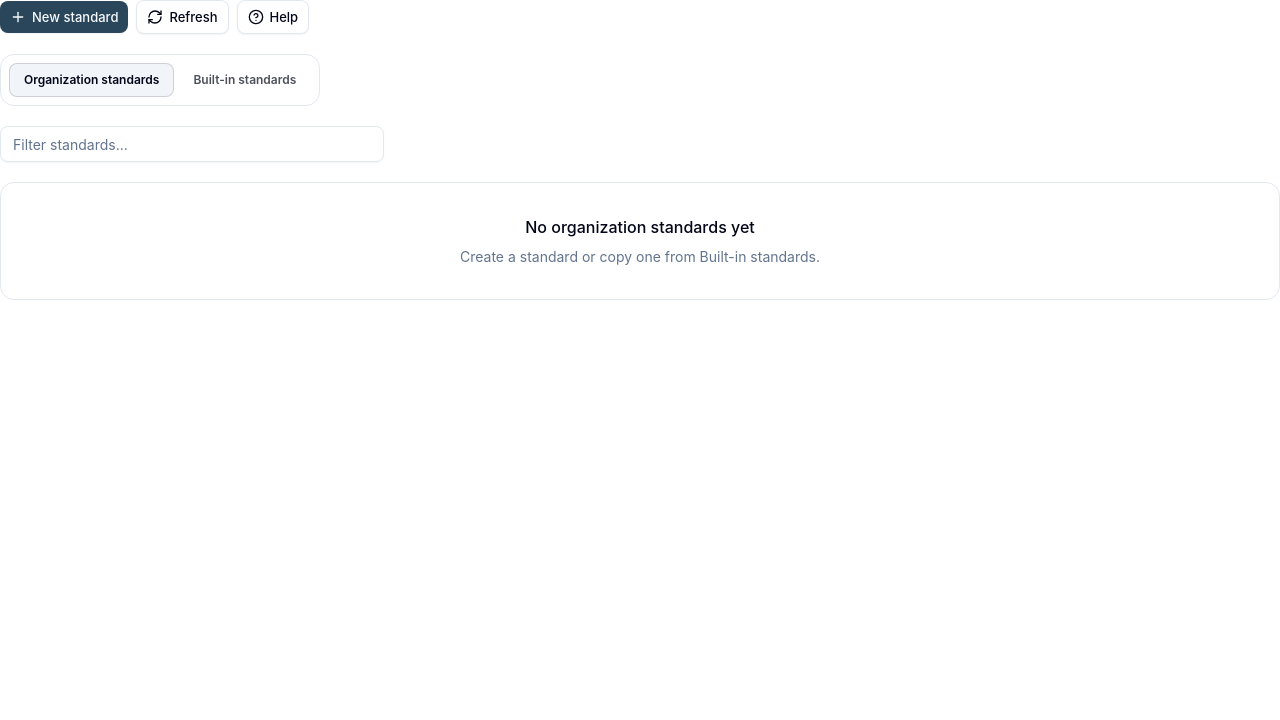
Test case: preserves the editor after a save conflict and presents a useful error
Click the button "New standard" at (64, 17), box [0,1,128,33]
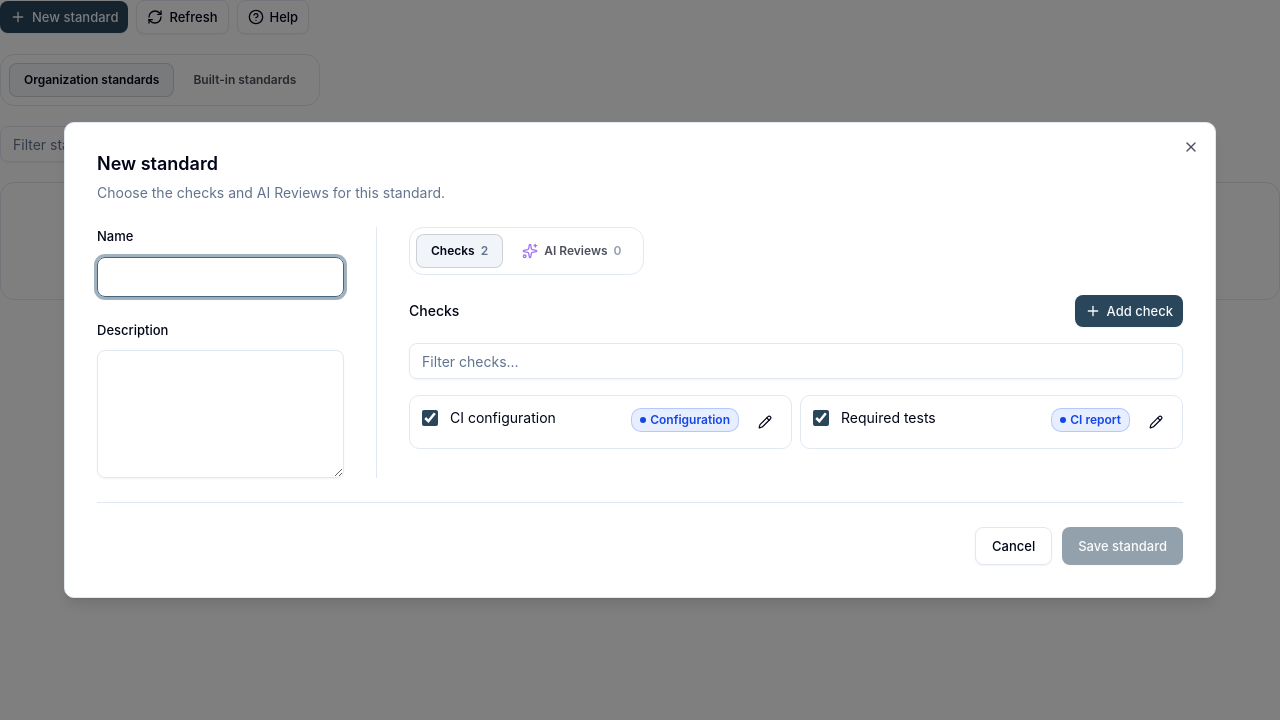
Type "Team standard" into the field labelled "Name" at (220, 276), box [97,256,344,296]
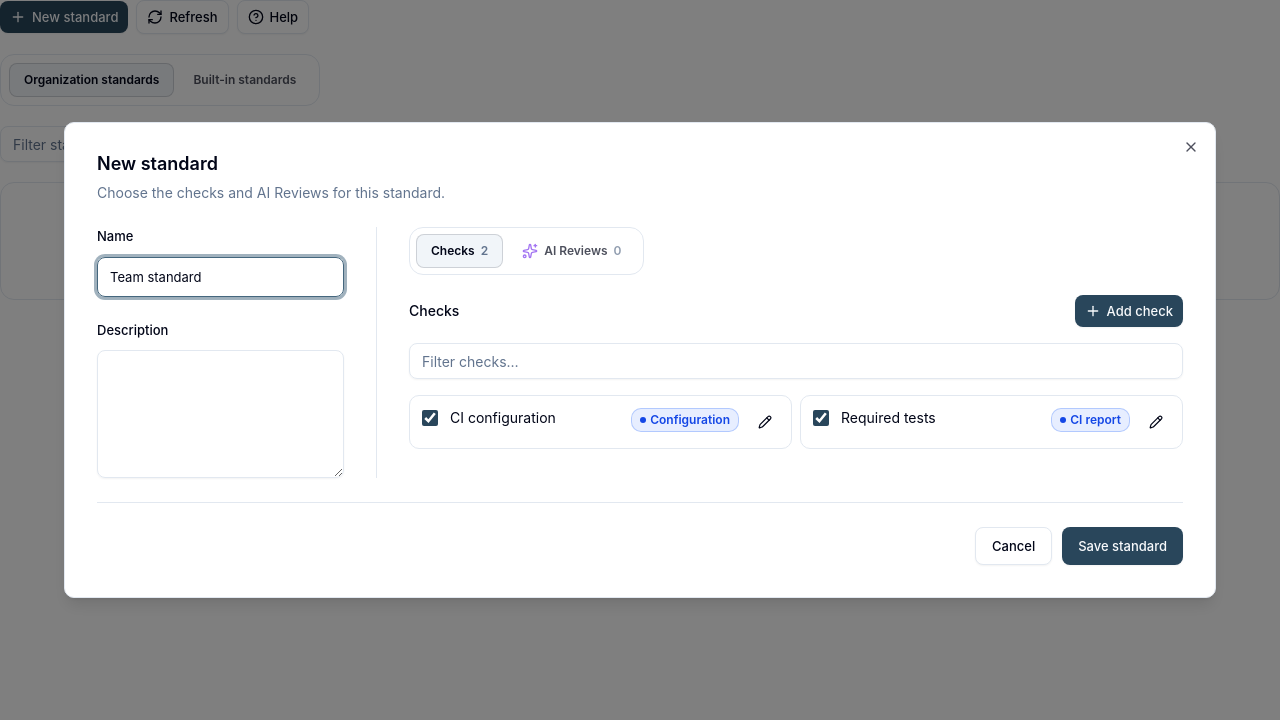
Click the button "Save standard" at (1123, 546), box [1062,527,1183,565]
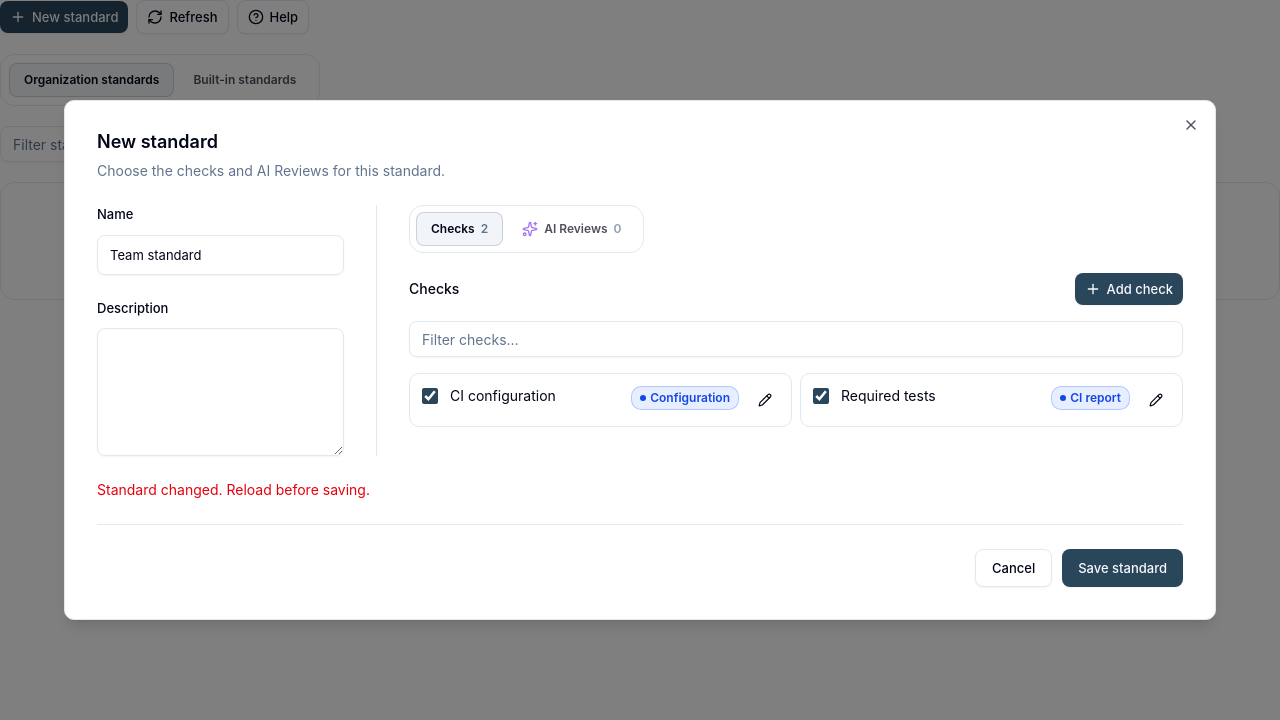
Expected: the message reads "Standard changed. Reload before saving.", [97,481,370,498]
